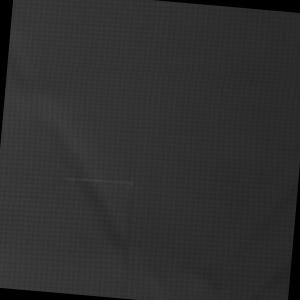Wrinkle: (1, 48, 161, 274), (189, 149, 300, 300)
